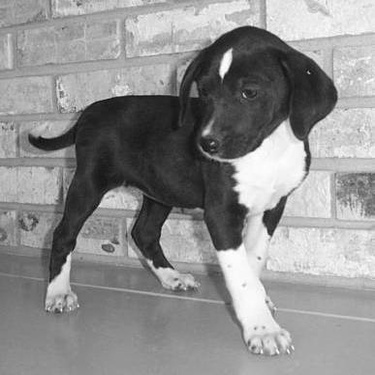dog: (21, 19, 340, 360)
